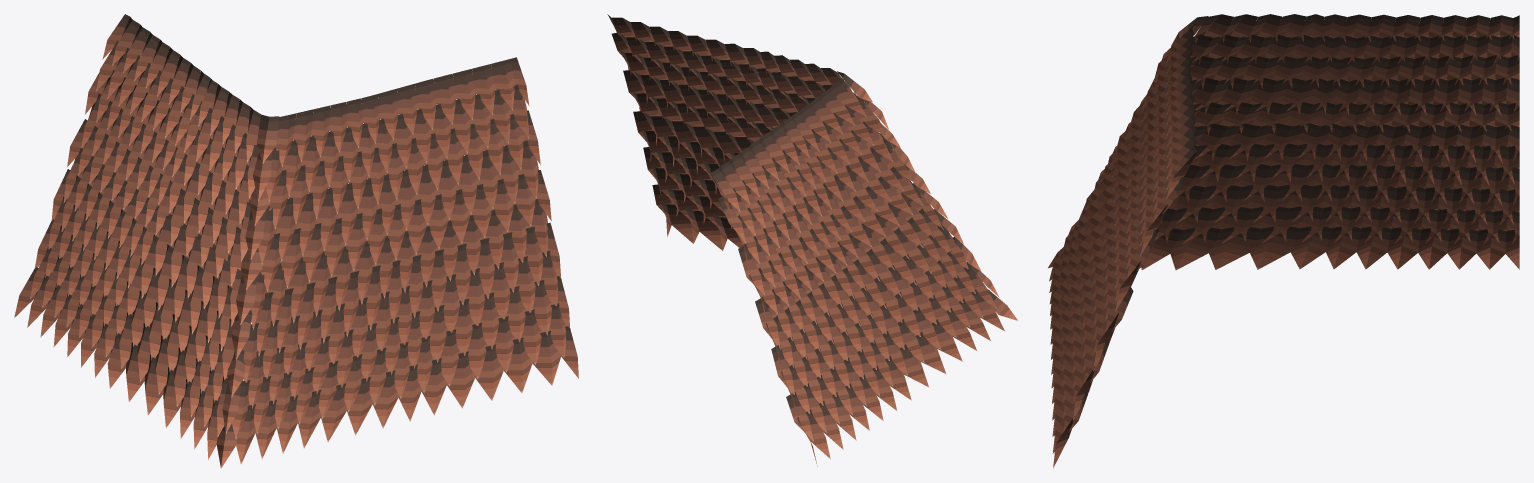
The model's file is Corner_Roof_LOD1.fbx.
The picture shows the model from 3 angles, left to right: view 1: azimuth 30°, elevation 25°; view 2: azimuth 150°, elevation 25°; view 3: azimuth 270°, elevation 25°; orthographic projection. The views are drawn at different scales.
Visible parts, largest first — view 1: polySurface5225; view 2: polySurface5225; view 3: polySurface5225.
Boxes of the visible parts, x1,y1,x2,y2 form: polySurface5225: (14, 14, 578, 468); polySurface5225: (607, 14, 1017, 466); polySurface5225: (1048, 14, 1519, 468).
Bounding box in the file's own units: 451 × 332 × 448.
